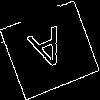A: (25, 25, 72, 80)
